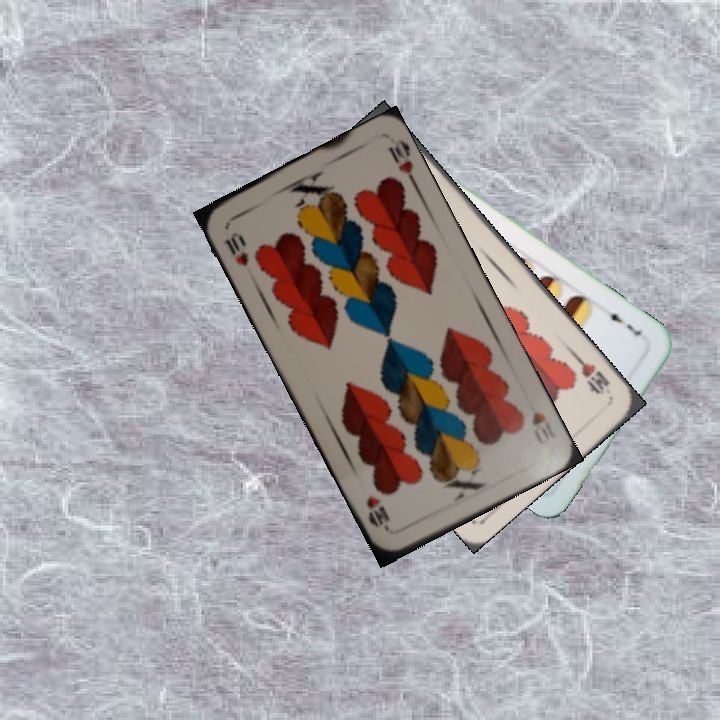E7: (603, 304, 644, 339)
H10: (570, 351, 613, 398), (220, 228, 252, 269), (527, 407, 557, 442)
